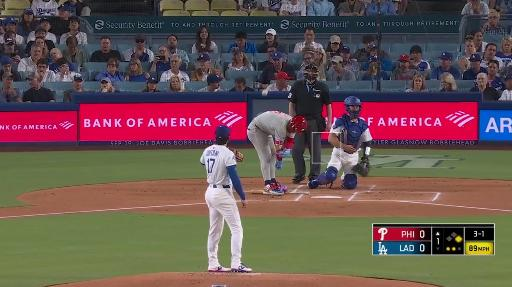pitcher: (200, 125, 252, 273)
